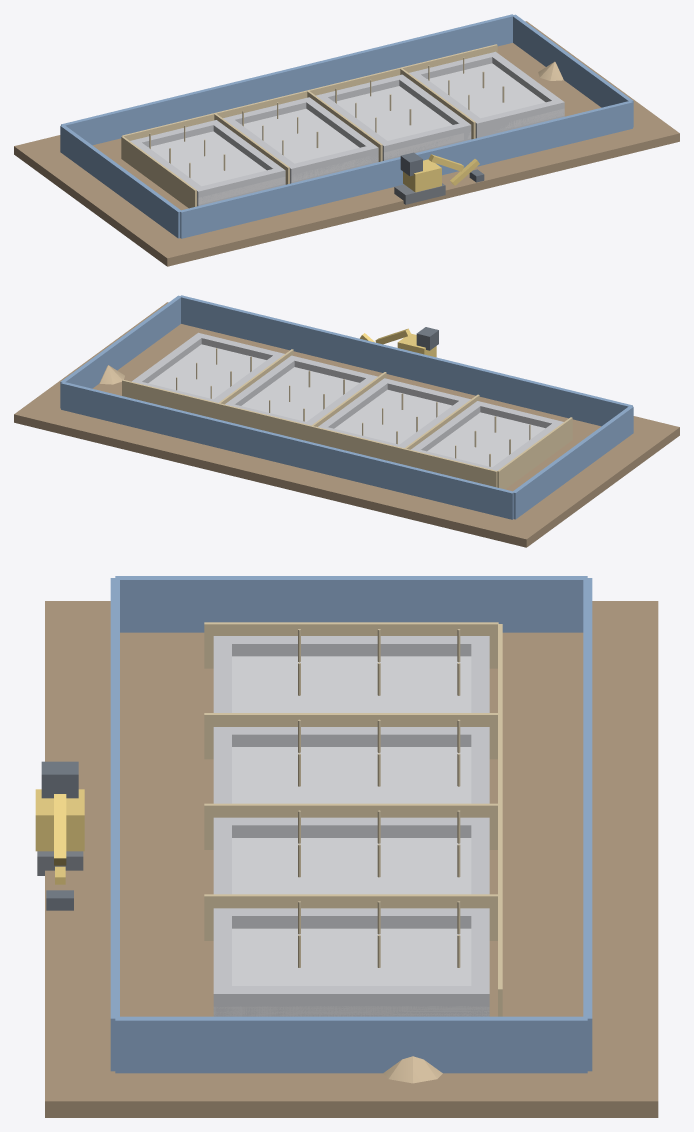
File: num-2-site.glb
3 views of the same model, one above another, from view 1: azimuth 30°, elevation 25°; view 2: azimuth 150°, elevation 25°; view 3: azimuth 270°, elevation 25° (orthographic). The views are drawn at different scales.
Bounding box in the file's own units: 38.6 × 3.4 × 20.3.
